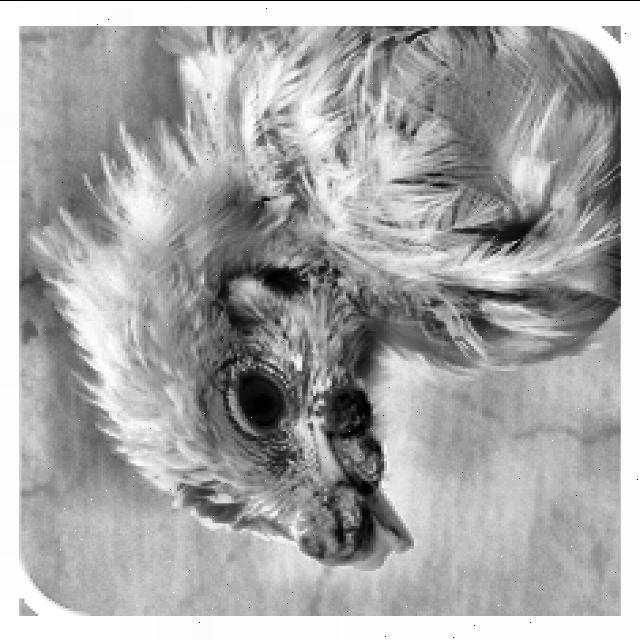Fowlpox: (295, 370, 426, 572)
